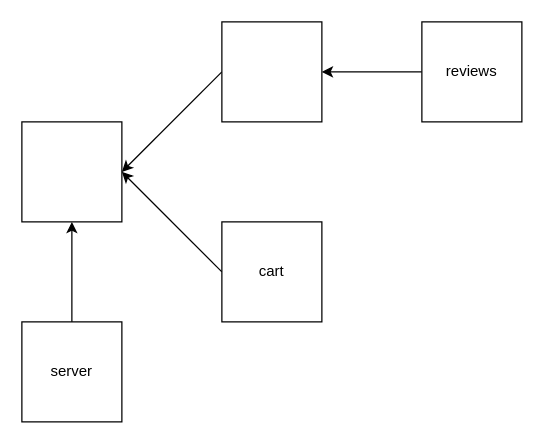
Image size: 544x444. Some labels were removed from this diagram. The centre of each missing label's shape, as x and y in pixels:
"home" goes at [71,171].
"pdp" goes at [271,71].
